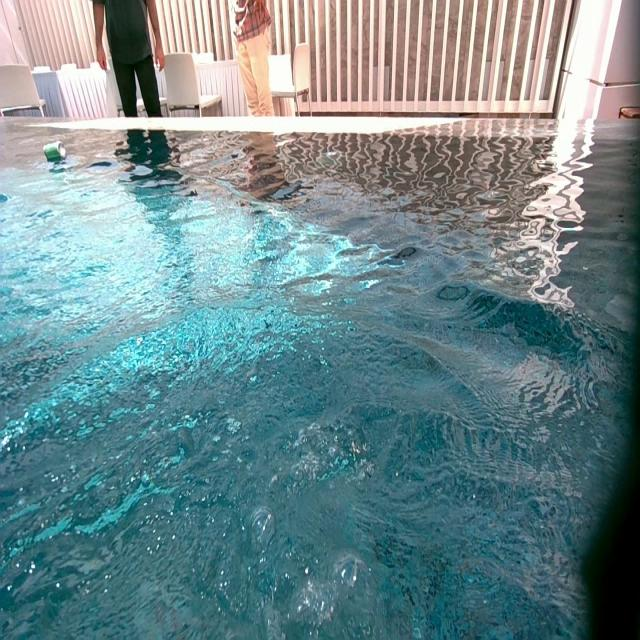Cans: (44, 141, 64, 160)
